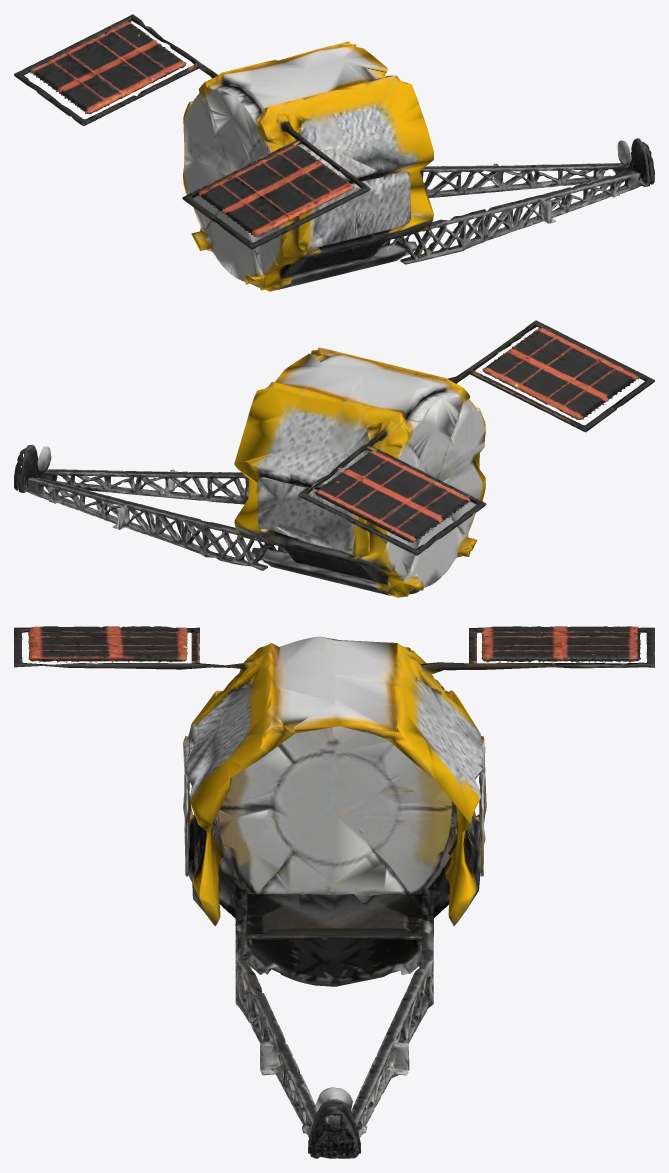
Rendered from hwo-low.glb.
3 views of the same model, one above another, from view 1: azimuth 30°, elevation 25°; view 2: azimuth 150°, elevation 25°; view 3: azimuth 270°, elevation 25° (orthographic). The views are drawn at different scales.
Bounding box in the file's own units: 1.9 × 0.6971 × 1.52.
Materials: 1 (1 with a texture image).
